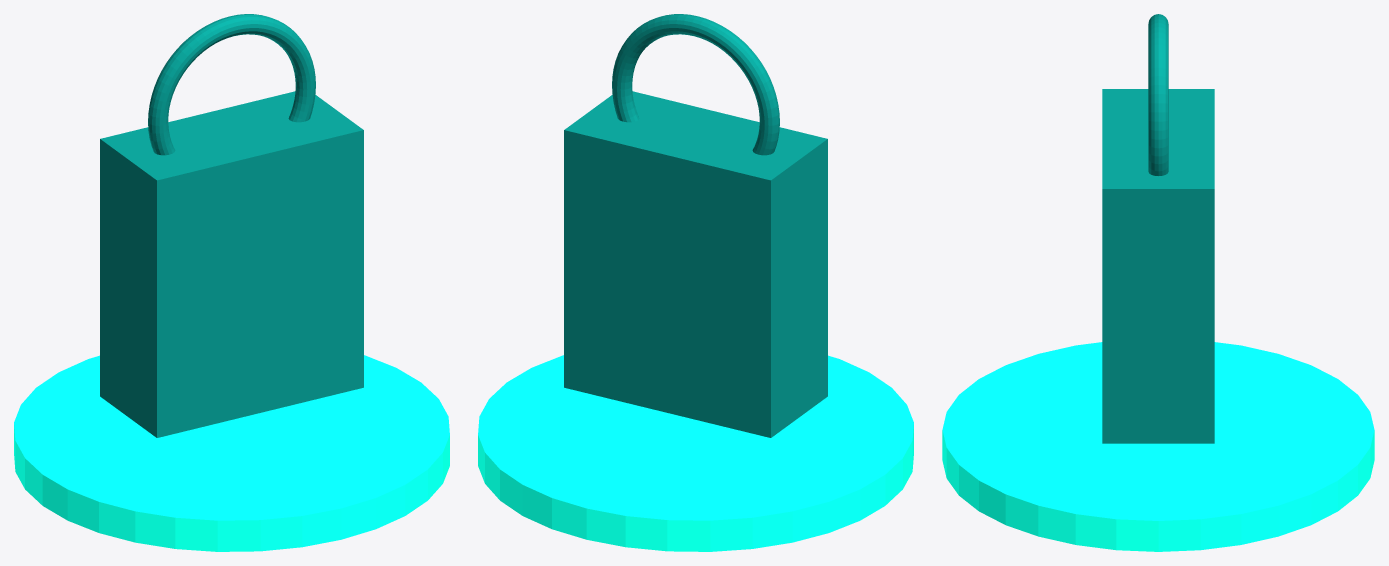
The model's file is fashion_shopping_bag.dae.
3 renders of one model, left to right at view 1: azimuth 30°, elevation 25°; view 2: azimuth 150°, elevation 25°; view 3: azimuth 270°, elevation 25°, orthographic.
Visible parts, largest first — view 1: 06_15_Popular_Fashion_Shopping_Bag_part_01, 06_15_Popular_Fashion_Shopping_Bag_ROOT_base, 06_15_Popular_Fashion_Shopping_Bag_part_02; view 2: 06_15_Popular_Fashion_Shopping_Bag_part_01, 06_15_Popular_Fashion_Shopping_Bag_ROOT_base, 06_15_Popular_Fashion_Shopping_Bag_part_02; view 3: 06_15_Popular_Fashion_Shopping_Bag_ROOT_base, 06_15_Popular_Fashion_Shopping_Bag_part_01, 06_15_Popular_Fashion_Shopping_Bag_part_02.
Boxes of the visible parts, <box> form: 06_15_Popular_Fashion_Shopping_Bag_part_01: <box>100,91,363,437</box>; 06_15_Popular_Fashion_Shopping_Bag_ROOT_base: <box>14,355,449,551</box>; 06_15_Popular_Fashion_Shopping_Bag_part_02: <box>148,14,315,155</box>; 06_15_Popular_Fashion_Shopping_Bag_part_01: <box>564,91,827,437</box>; 06_15_Popular_Fashion_Shopping_Bag_ROOT_base: <box>478,355,913,551</box>; 06_15_Popular_Fashion_Shopping_Bag_part_02: <box>612,14,779,155</box>; 06_15_Popular_Fashion_Shopping_Bag_ROOT_base: <box>942,342,1374,551</box>; 06_15_Popular_Fashion_Shopping_Bag_part_01: <box>1102,89,1214,443</box>; 06_15_Popular_Fashion_Shopping_Bag_part_02: <box>1148,14,1168,175</box>.
Bounding box in the file's own units: 0.76 × 0.85 × 0.76.
